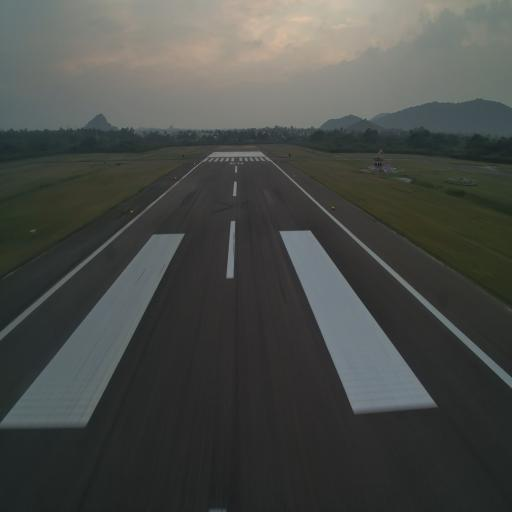on: (330, 203, 336, 212), (129, 208, 134, 216)
